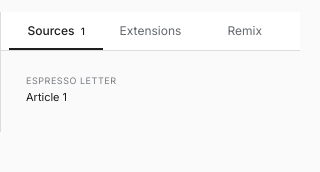
Test: EditorRail › switches to Extensions tab on click
Click the button "Extensions".
click(150, 31)  # box [103,12,198,50]
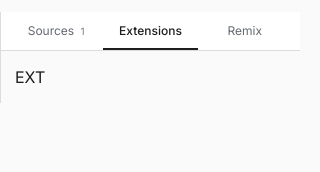
Expected: the text "EXT" is shown, [15,67,45,87]
